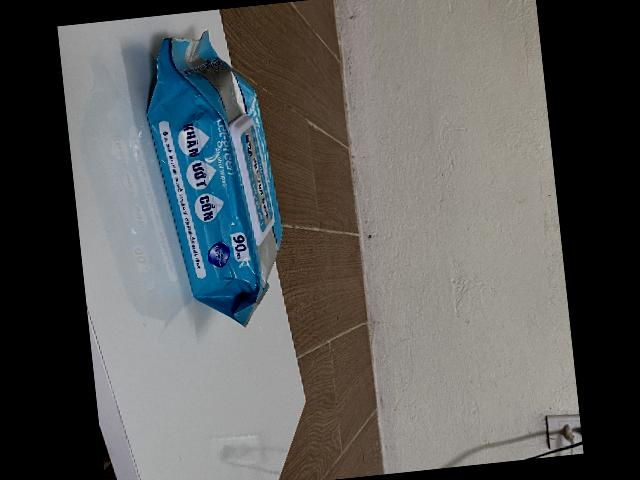Let-green_alcohol_wipes: (144, 28, 281, 327)
